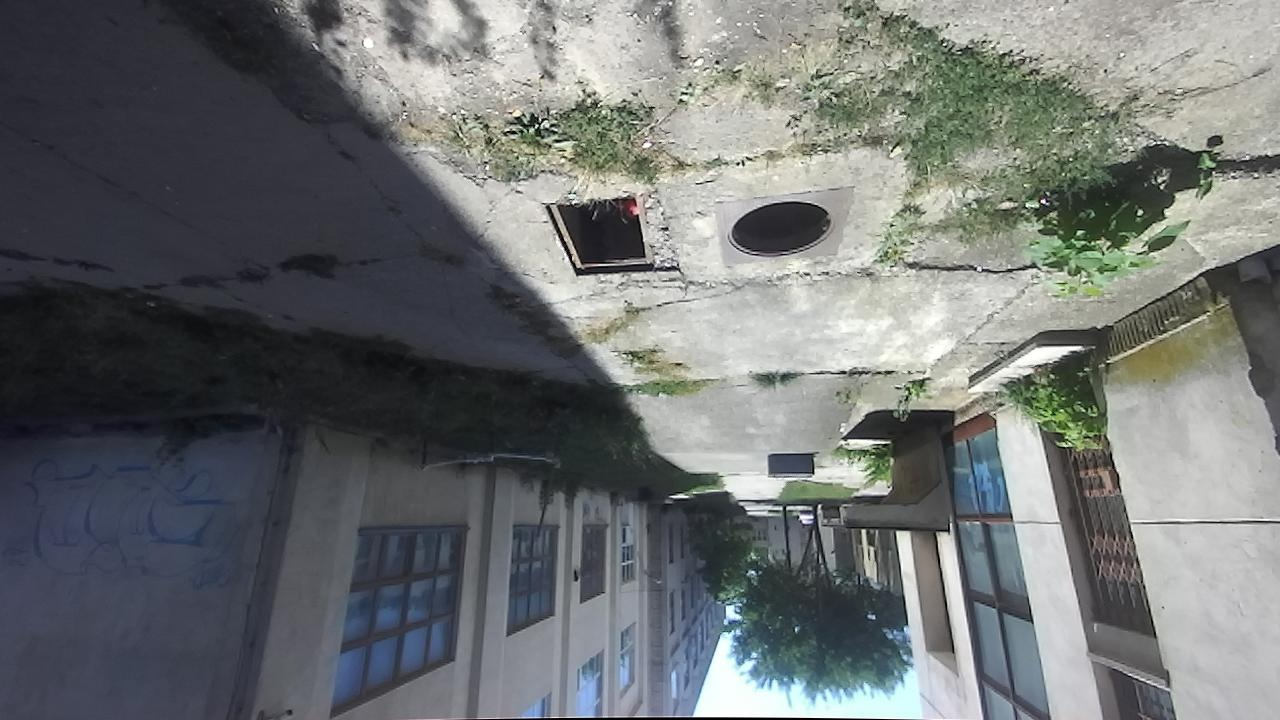drain: (537, 193, 656, 279), (716, 195, 840, 260)
